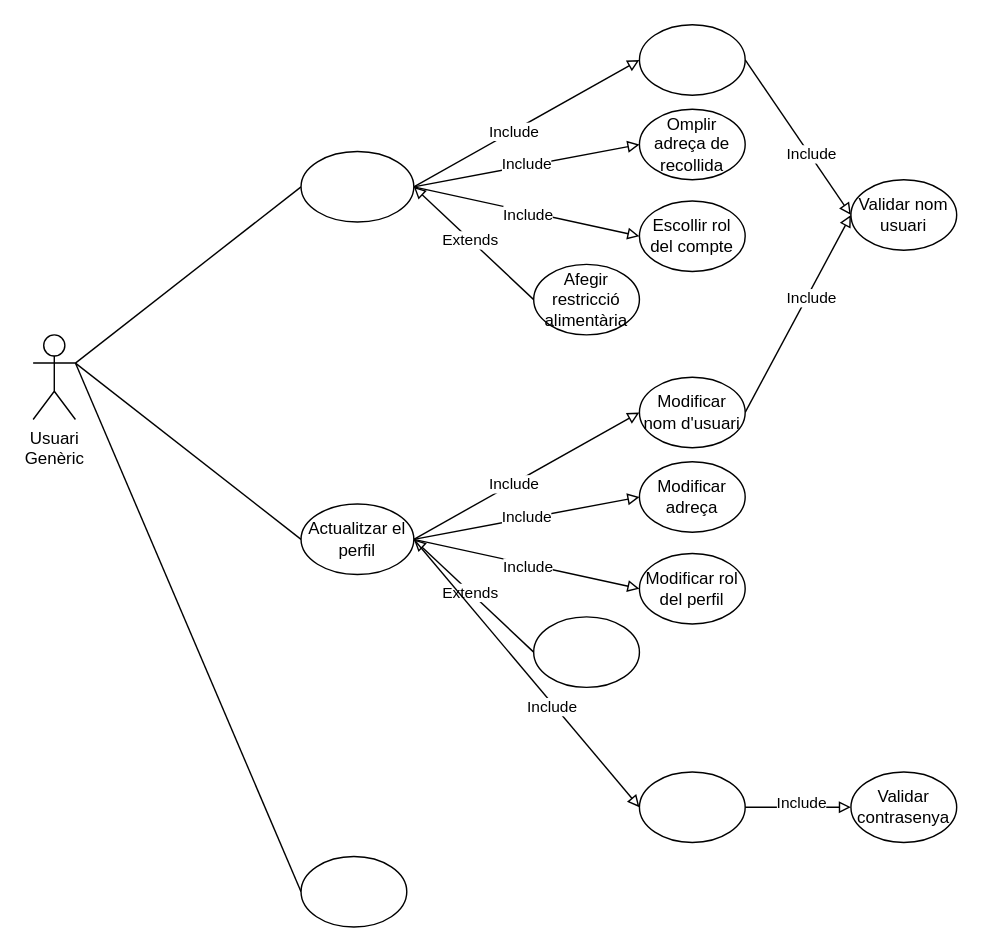
The diagram is 981 pixels wide and 952 high, and some of its shapes have lost their labels. The shapes that lost their labels are listed below. From the top down, each one's centre as x and y in pixels, then its label:
At (x=691, y=59): "Omplir nom d'usuari".
At (x=357, y=186): "Configurar el perfil".
At (x=585, y=651): "Actualitzar restriccions alimentàries".
At (x=691, y=806): "Modificar contrasenya".
At (x=353, y=891): "Eliminar perfil".
